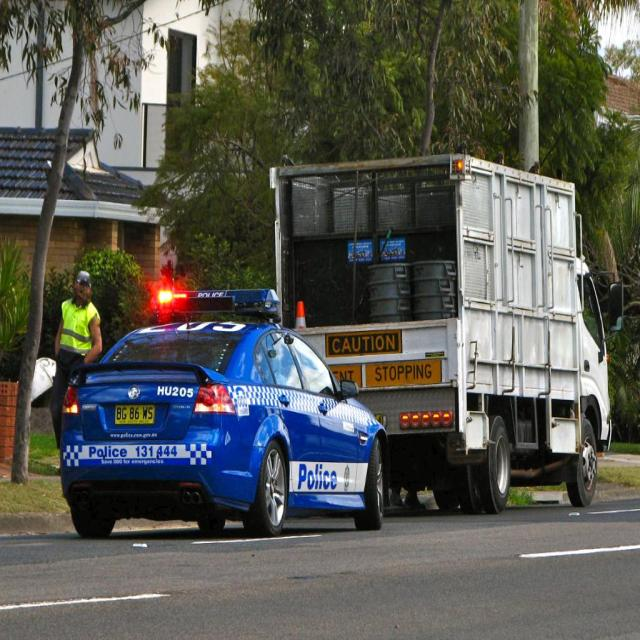car: (60, 284, 384, 540)
